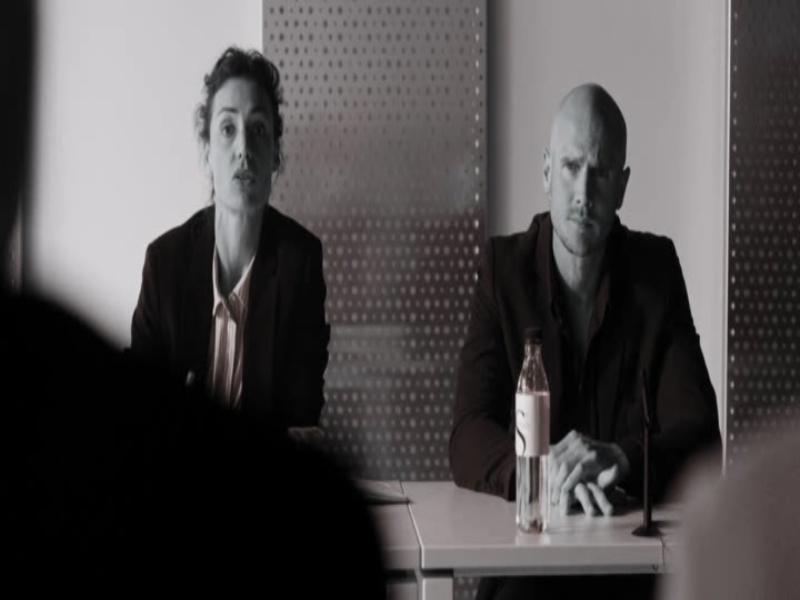TsisyArotava: (533, 89, 647, 271), (187, 56, 296, 216)
